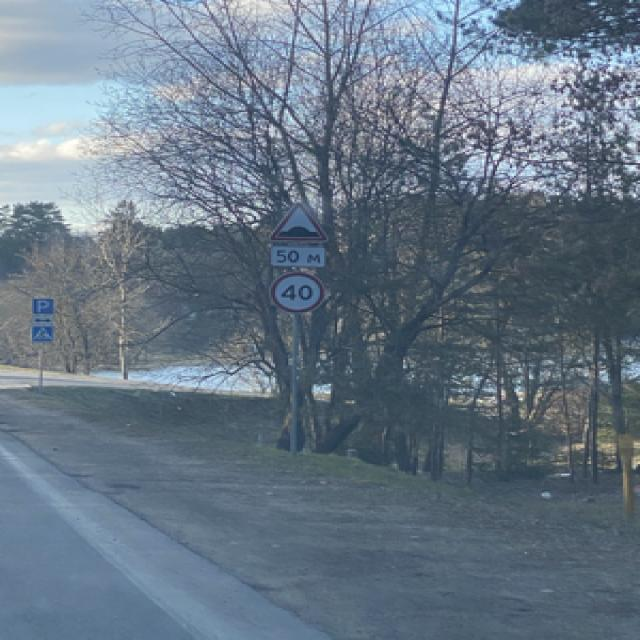crosswalk: (30, 323, 53, 341)
speedlimit: (269, 270, 322, 310)
